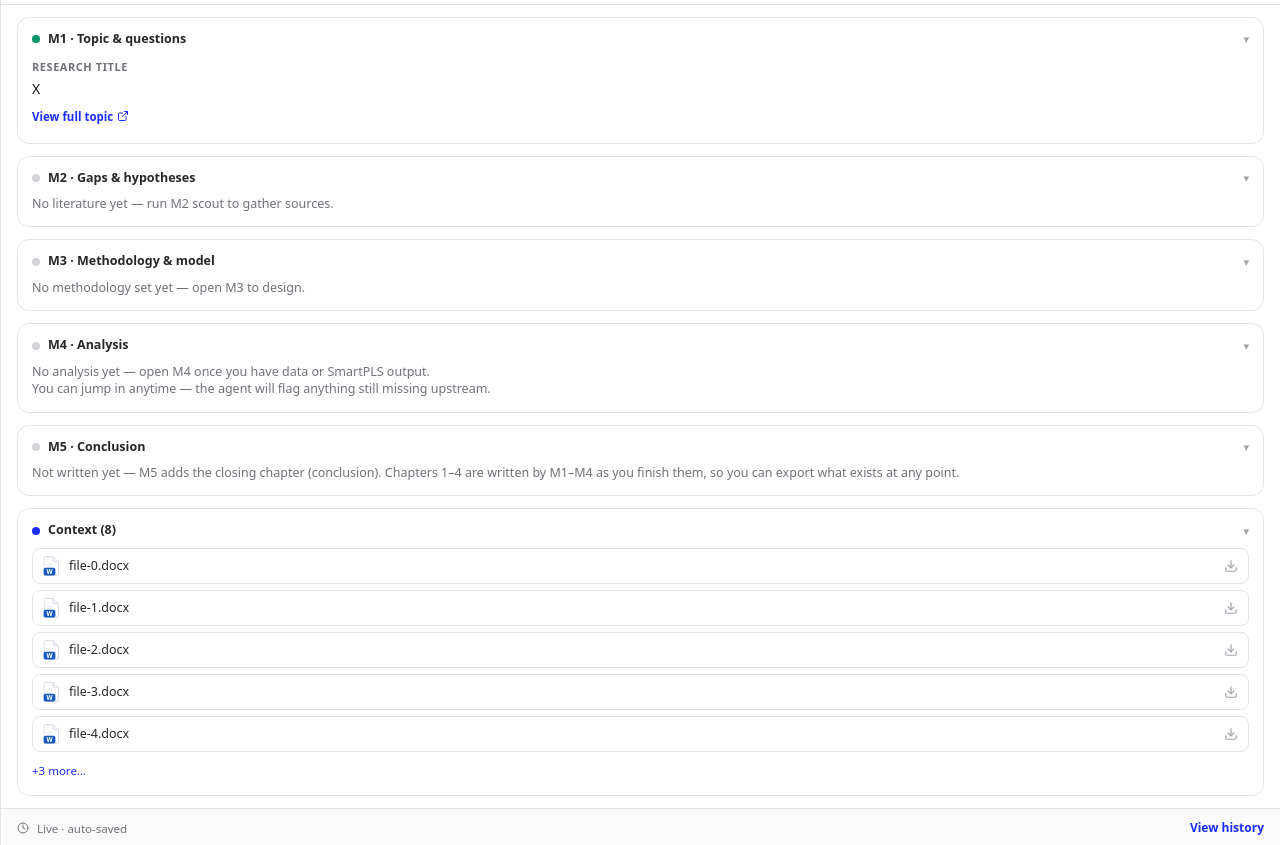
Test: ContextPanel › truncated uploads expand on +N more click
The image size is (1280, 845).
Expected: the text "file-0.docx" is shown, [69,557,129,576]
Expected: the text "file-7.docx" is not shown
Click the button "+3 more…". click: (59, 769)
box: [32,758,86,780]
(page scrolled)
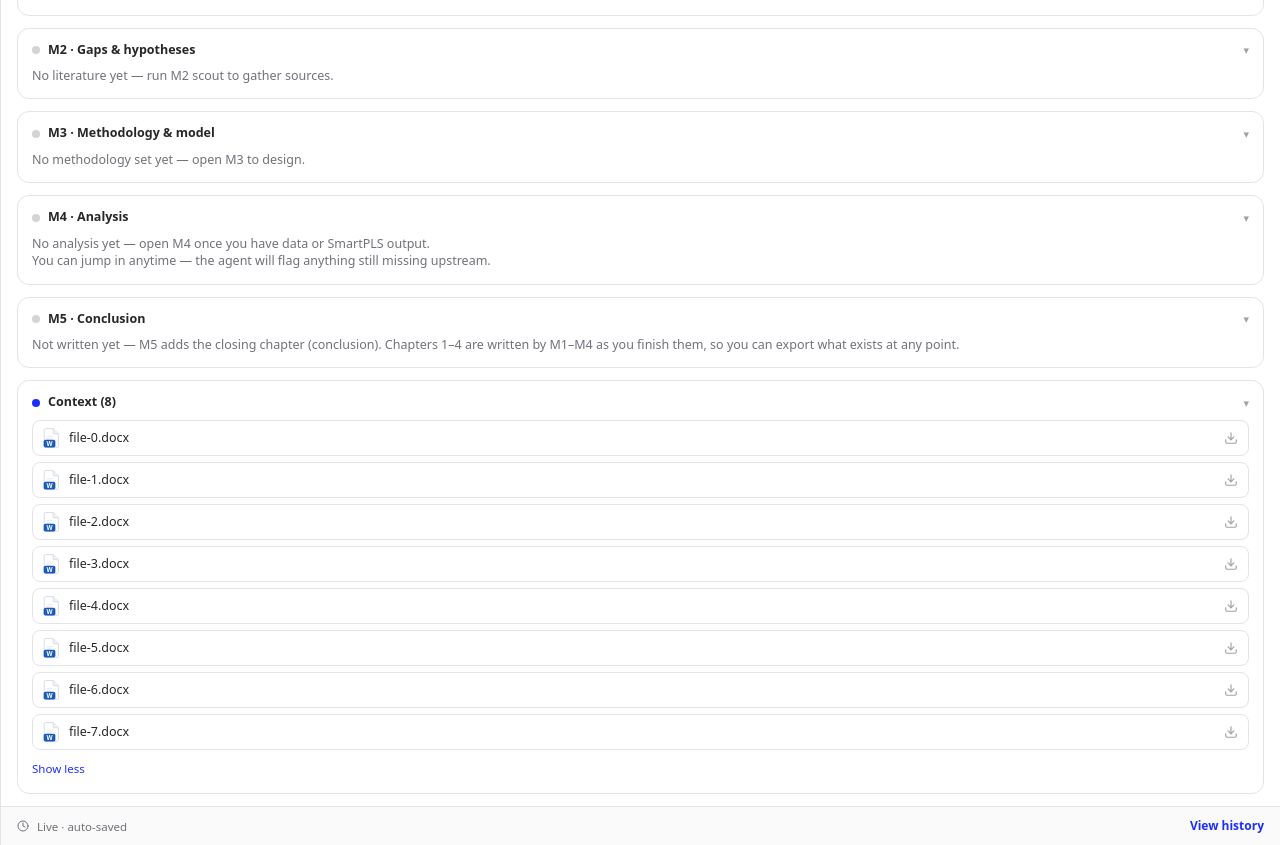
Result: the text "file-7.docx" is shown at [69,723,129,742]
Click the button "Show less". click: (58, 767)
box: [32,756,85,778]
(page scrolled)
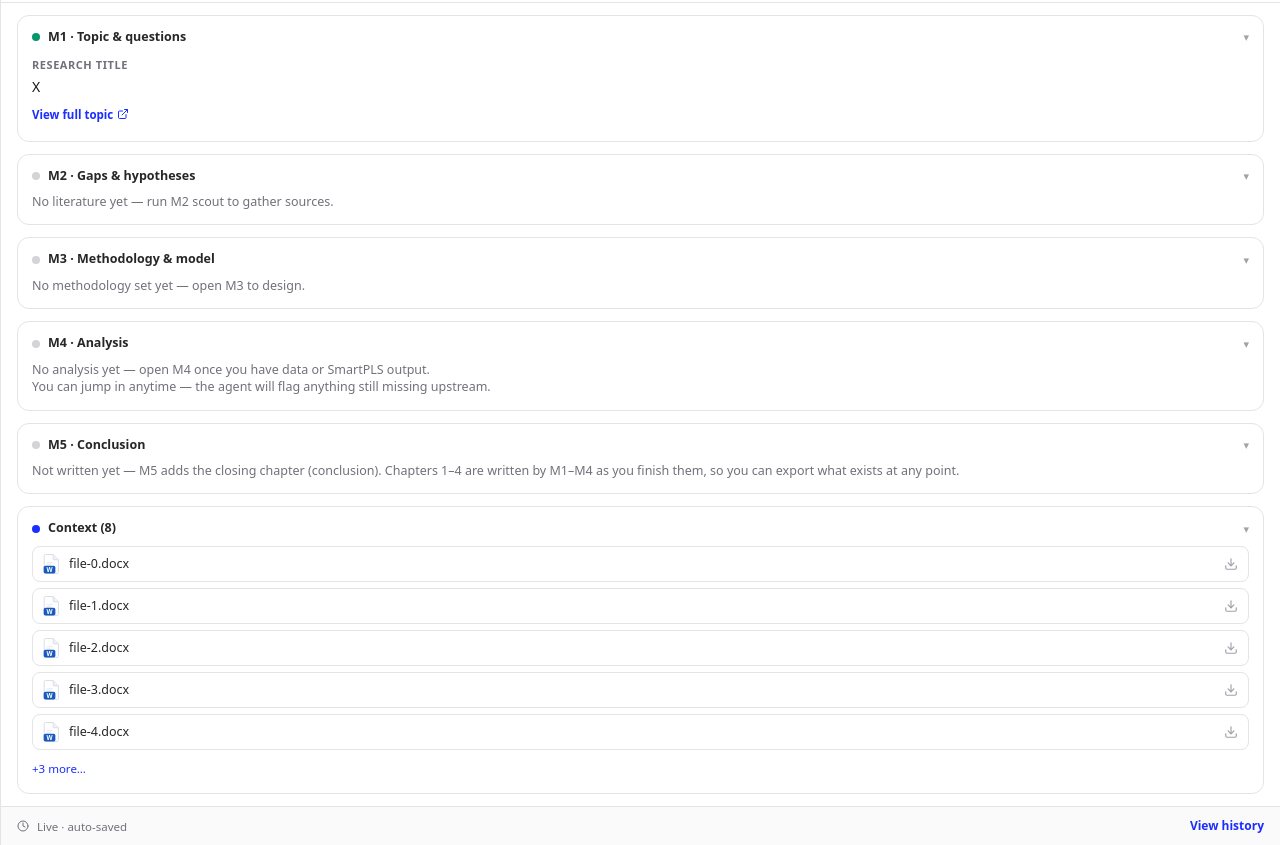
Result: the button "file-7.docx" is gone
